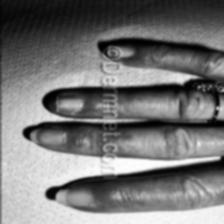Unclassified: (52, 90, 86, 118)
